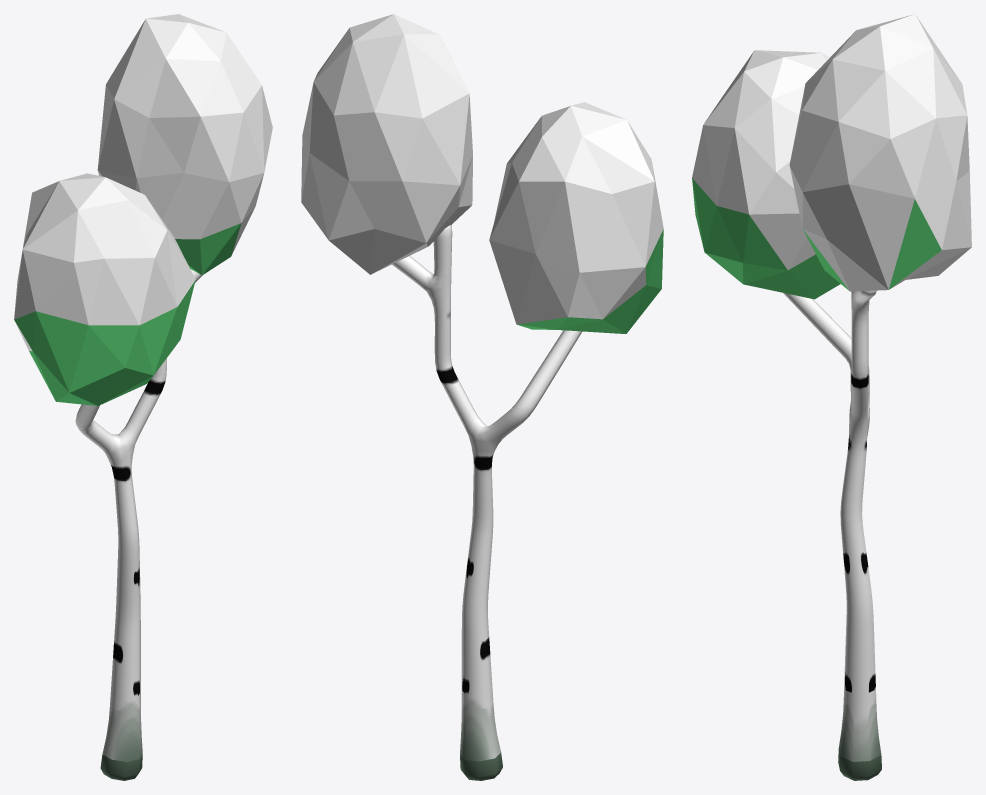
The model's file is birch_1.gltf.
3 renders of one model, left to right at view 1: azimuth 30°, elevation 25°; view 2: azimuth 150°, elevation 25°; view 3: azimuth 270°, elevation 25°, orthographic. The views are drawn at different scales.
Parts seen in each view (by area): view 1: Birch1_LOD0; view 2: Birch1_LOD0; view 3: Birch1_LOD0.
Boxes of the visible parts, x1,y1,x2,y2 form: Birch1_LOD0: [14, 14, 272, 780]; Birch1_LOD0: [301, 14, 663, 780]; Birch1_LOD0: [692, 14, 971, 780].
Size of the model in its own units: 3.67 by 9.05 by 2.91.
1 material, 1 textured.
